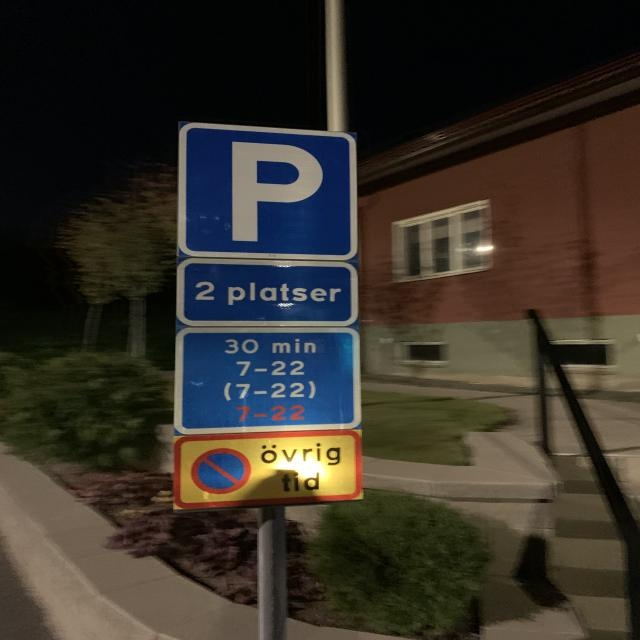P-skylt: (174, 121, 360, 258)
